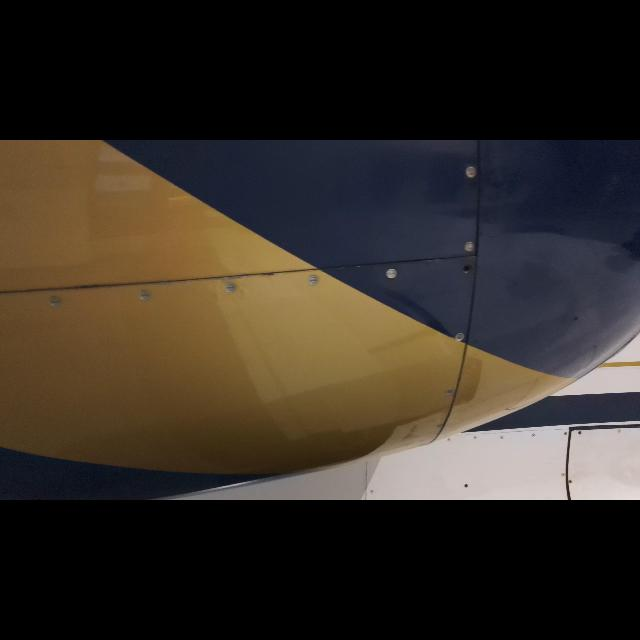Missing Fastener: (459, 262, 473, 276)
